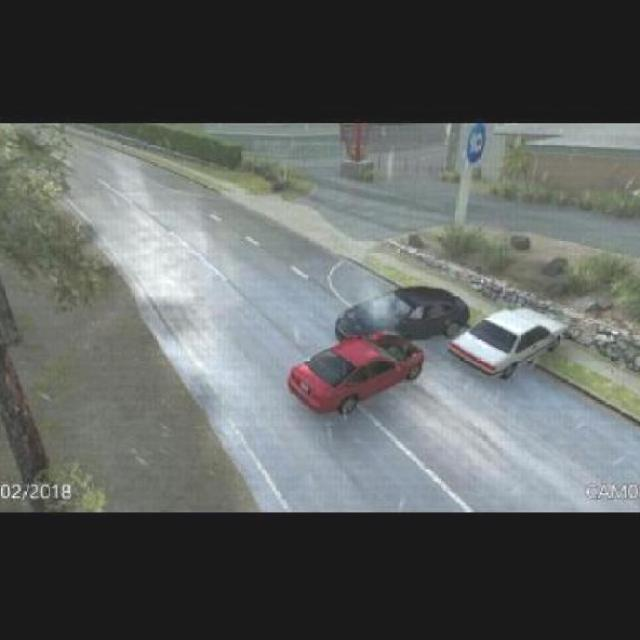accident: (284, 282, 464, 418)
